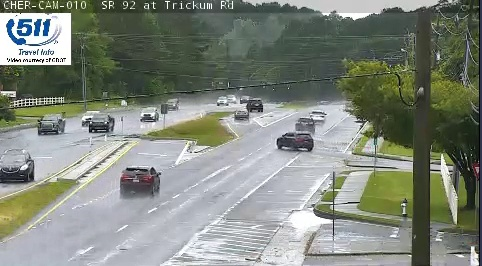car: (120, 166, 160, 193), (294, 117, 314, 133), (309, 109, 326, 123)
